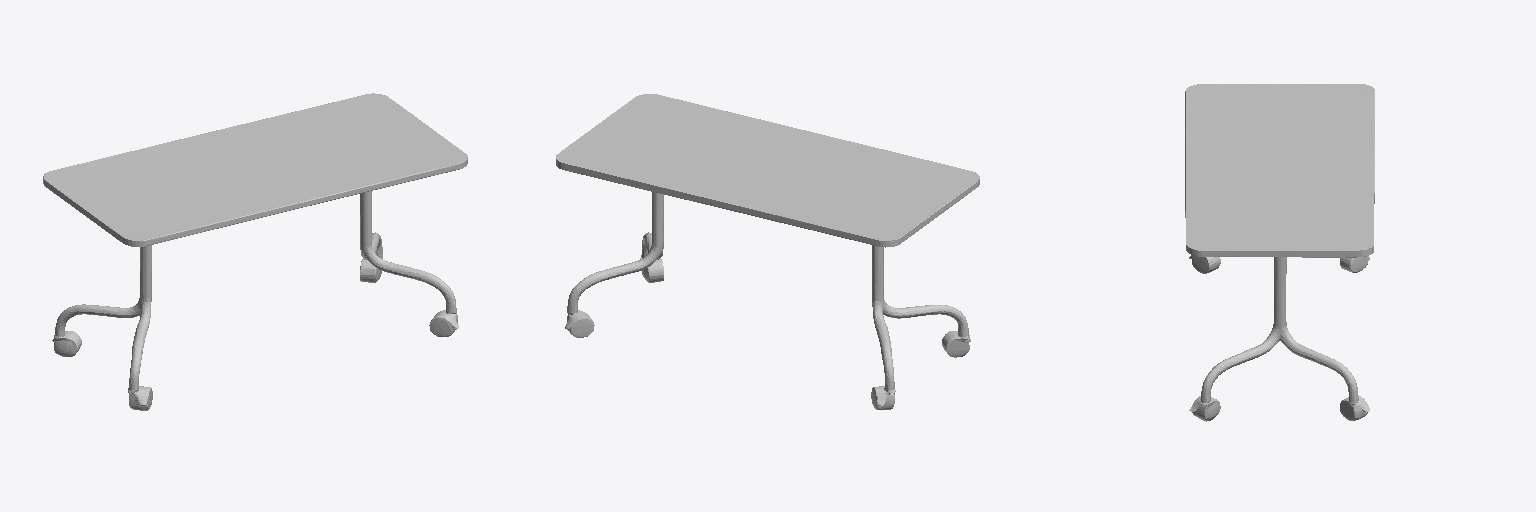
Rendered from BROW TABLE TEXTURES ProjectRoom 2 AI.obj.
3 renders of one model, left to right at view 1: azimuth 30°, elevation 25°; view 2: azimuth 150°, elevation 25°; view 3: azimuth 270°, elevation 25°, orthographic.
Parts seen in each view (by area): view 1: geometry_0; view 2: geometry_0; view 3: geometry_0.
Boxes of the visible parts, x1,y1,x2,y2 form: geometry_0: [43, 93, 467, 410]; geometry_0: [556, 94, 979, 409]; geometry_0: [1185, 84, 1374, 421].
Bounding box in the file's own units: 1 × 0.4964 × 0.4784.